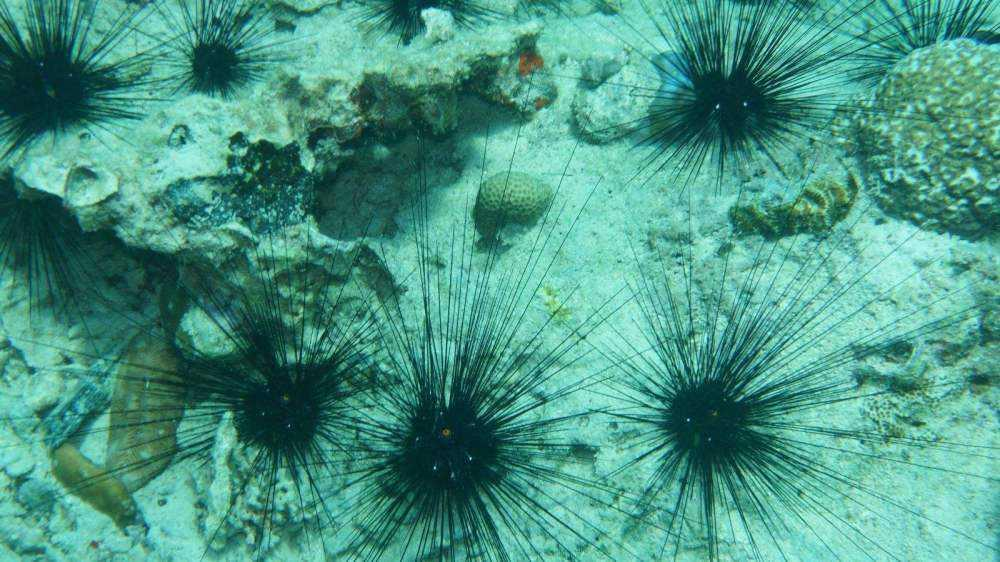urchin: (297, 166, 642, 554), (582, 209, 960, 554), (73, 221, 373, 541), (576, 3, 860, 175), (1, 6, 155, 163), (160, 4, 295, 106), (352, 9, 482, 43)
